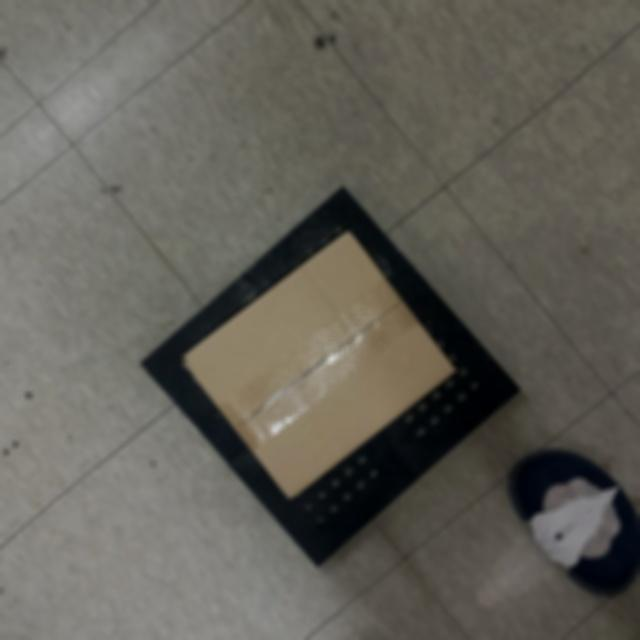box: (172, 217, 472, 514)
pallet: (132, 180, 530, 578)
